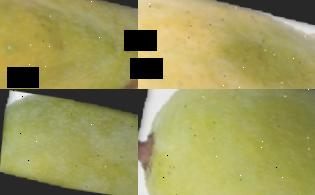PartiallyRipe: (138, 0, 315, 89), (0, 0, 138, 89)
Unripe: (138, 89, 315, 195), (0, 89, 138, 195)
